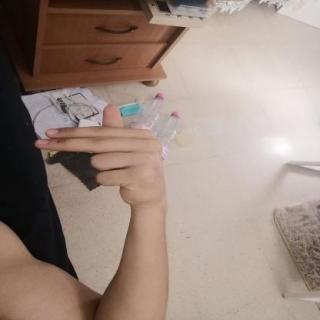GHAYN: (26, 99, 175, 211)
